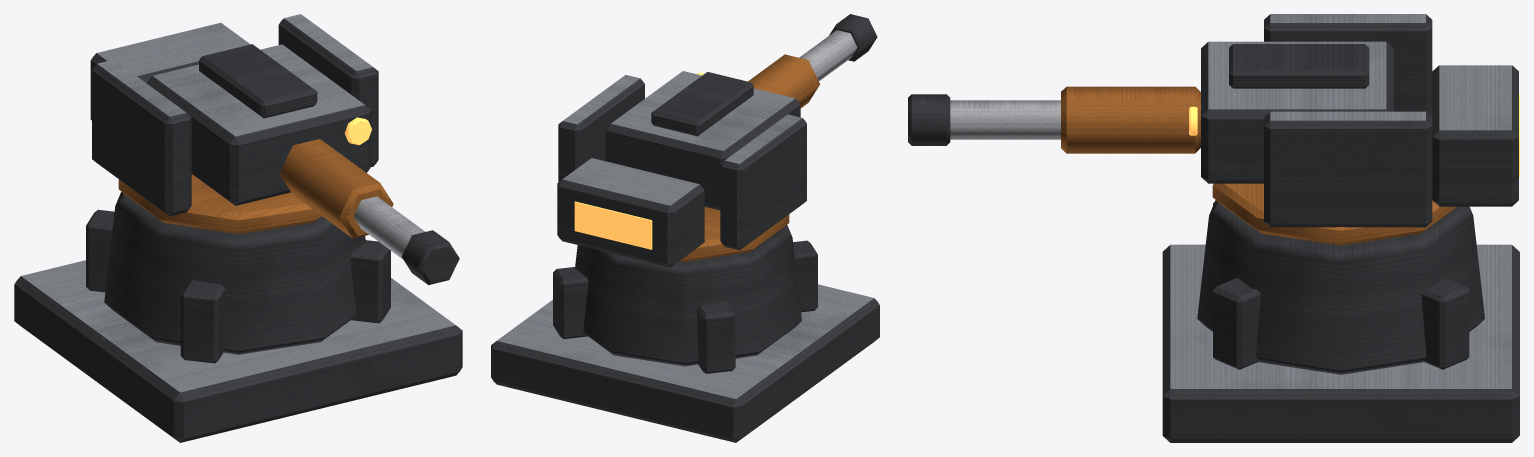
The model's file is R4W_Basic_LOD1.glb.
The picture shows the model from 3 angles, left to right: view 1: azimuth 30°, elevation 25°; view 2: azimuth 150°, elevation 25°; view 3: azimuth 270°, elevation 25°; orthographic projection. The views are drawn at different scales.
Parts seen in each view (by area): view 1: R4W_Basic_LOD1; view 2: R4W_Basic_LOD1; view 3: R4W_Basic_LOD1.
Part boxes in pixels (box(x1,y1,x2,y2)): R4W_Basic_LOD1: box(14, 14, 462, 442); R4W_Basic_LOD1: box(491, 14, 879, 442); R4W_Basic_LOD1: box(908, 14, 1519, 442).
Size of the model in its own units: 0.51 by 0.494 by 0.873.
Materials: 5 (4 with a texture image).
